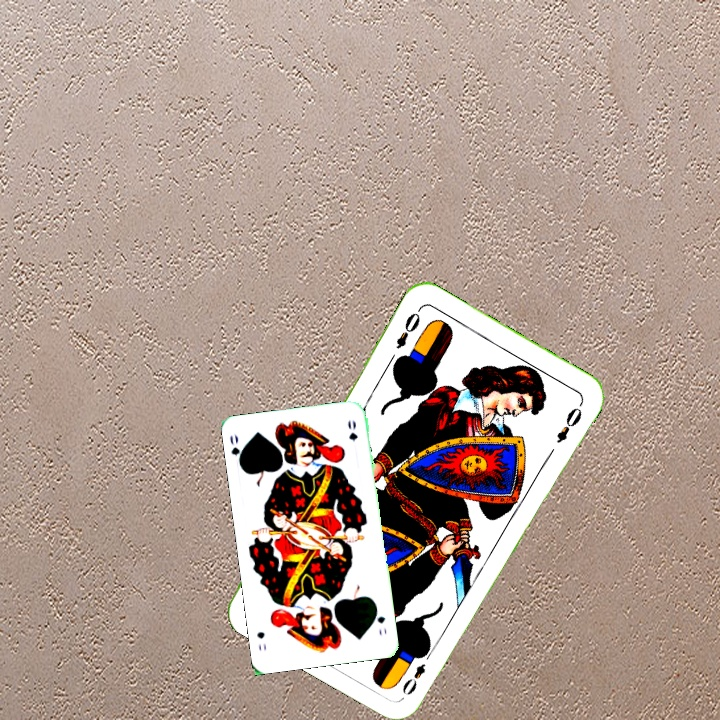EO: (391, 304, 424, 352), (398, 659, 428, 698)
GO: (226, 430, 246, 470), (371, 602, 389, 637)
